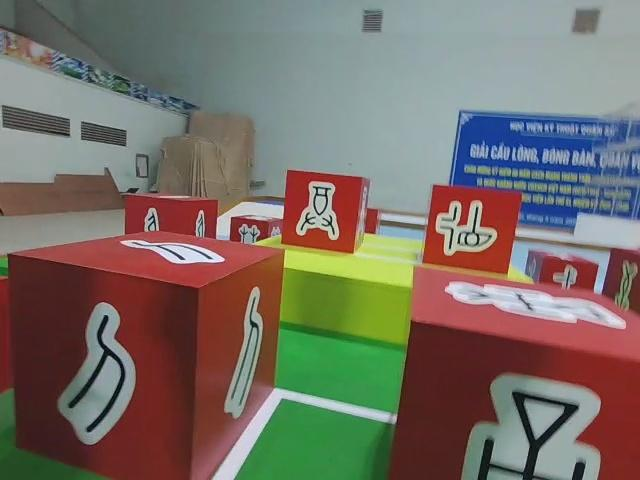R2 Real: (7, 230, 287, 480), (382, 261, 640, 480), (421, 181, 525, 278), (279, 165, 371, 255), (122, 190, 219, 260), (600, 244, 640, 322)
